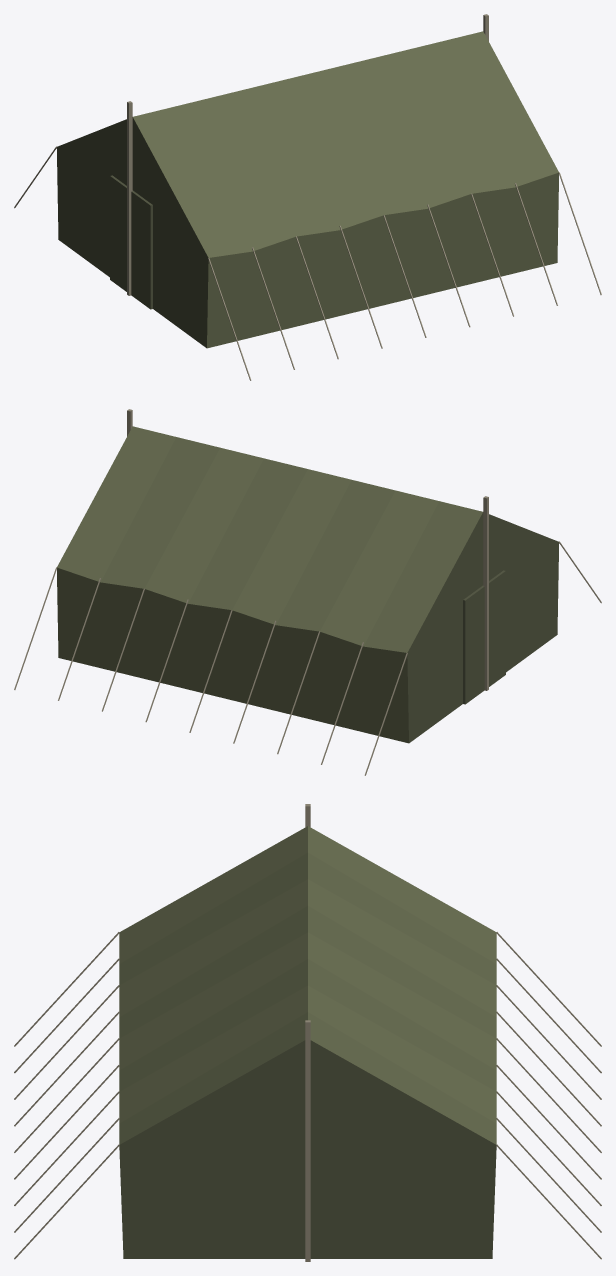
File: army_tent.glb
3 views of the same model, one above another, from view 1: azimuth 30°, elevation 25°; view 2: azimuth 150°, elevation 25°; view 3: azimuth 270°, elevation 25° (orthographic). The views are drawn at different scales.
Parts seen in each view (by area): view 1: tent, door, pole; view 2: tent, door, pole; view 3: tent, pole.001.
Boxes of the visible parts, left/top/right/bottom form: tent: left=56, top=31, right=558, bottom=348; door: left=110, top=175, right=152, bottom=309; pole: left=127, top=101, right=132, bottom=295; tent: left=57, top=426, right=559, bottom=743; door: left=463, top=570, right=505, bottom=704; pole: left=483, top=496, right=488, bottom=690; tent: left=119, top=826, right=496, bottom=1258; pole.001: left=305, top=1020, right=310, bottom=1261.
Size of the model in its own units: 6.16 by 3.15 by 7.01.
